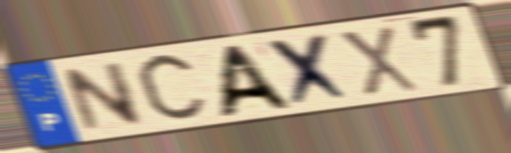7: (403, 13, 467, 93)
A: (212, 41, 298, 121)
C: (133, 49, 212, 128)
N: (59, 59, 148, 137)
X: (263, 30, 357, 111), (334, 23, 423, 99)
